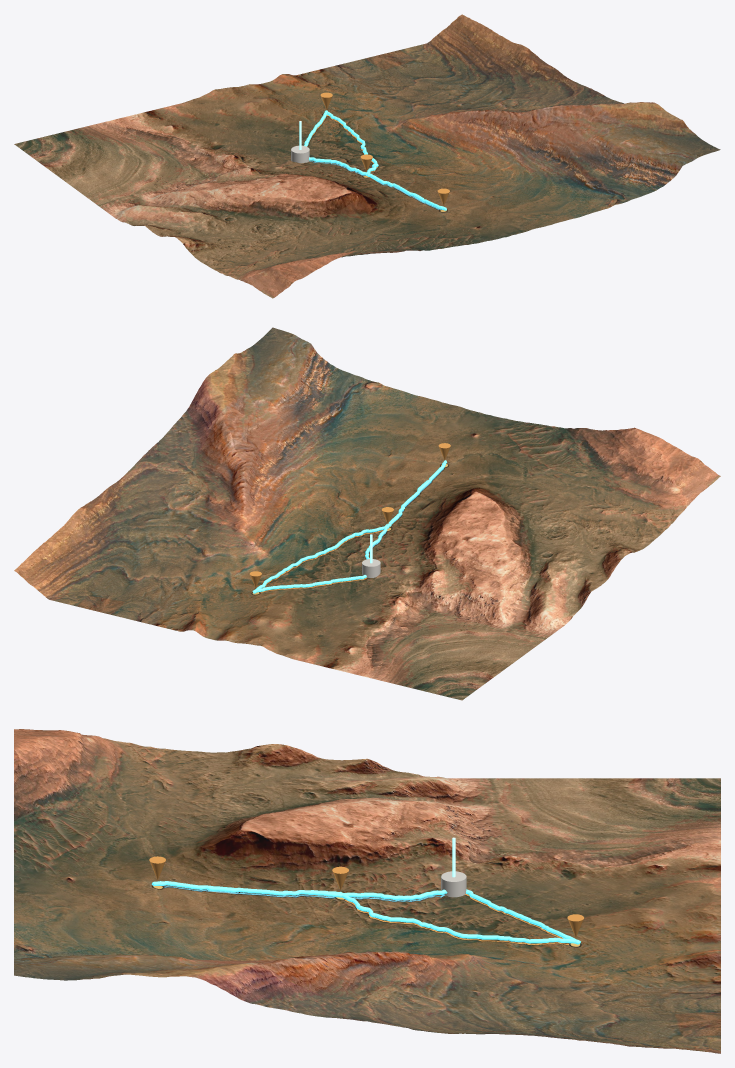
File: tether_room.glb
3 views of the same model, one above another, from view 1: azimuth 30°, elevation 25°; view 2: azimuth 150°, elevation 25°; view 3: azimuth 270°, elevation 25° (orthographic). The views are drawn at different scales.
Visible parts, largest first — view 1: Mount Sharp terrain, planned route; view 2: Mount Sharp terrain, planned route; view 3: Mount Sharp terrain, planned route, habitat.
Part boxes in pixels (x1=…): Mount Sharp terrain: x1=14, y1=14, x2=720, y2=298; planned route: x1=304, y1=110, x2=446, y2=210; Mount Sharp terrain: x1=14, y1=327, x2=720, y2=700; planned route: x1=252, y1=460, x2=446, y2=593; Mount Sharp terrain: x1=14, y1=729, x2=720, y2=1053; planned route: x1=151, y1=881, x2=580, y2=944; habitat: x1=441, y1=871, x2=466, y2=897.
Size of the model in its own units: 6 by 0.9718 by 6.
7 materials, 1 textured.
